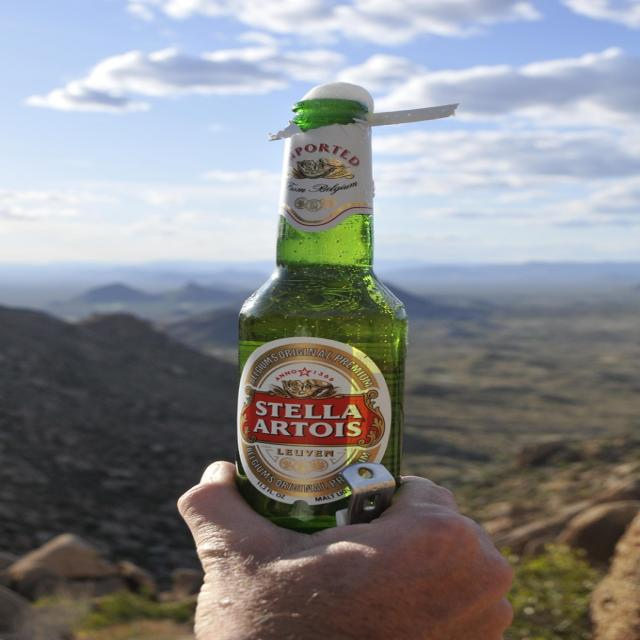stellaartois: (238, 344, 386, 498), (276, 142, 377, 235)
